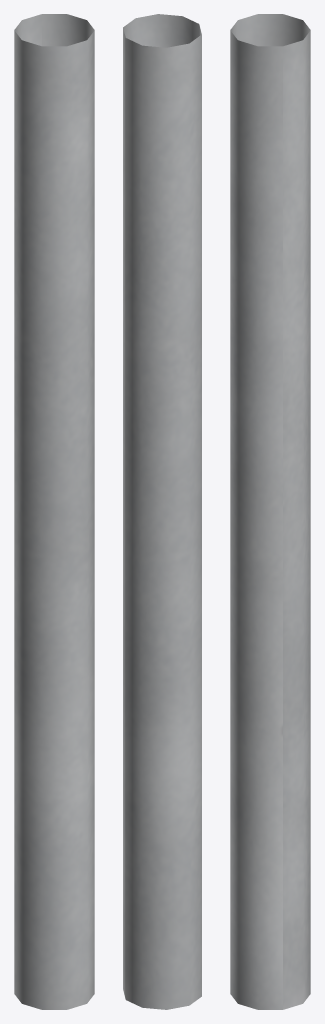
Rendered from pipe_stick.fbx.
The picture shows the model from 3 angles, left to right: view 1: azimuth 90°, elevation 25°; view 2: azimuth 150°, elevation 25°; view 3: azimuth 270°, elevation 25°; orthographic projection.
Parts seen in each view (by area): view 1: pCylinder5; view 2: pCylinder5; view 3: pCylinder5.
Boxes of the visible parts, x1=… form: pCylinder5: x1=14, y1=14, x2=94, y2=1009; pCylinder5: x1=123, y1=14, x2=201, y2=1009; pCylinder5: x1=230, y1=14, x2=310, y2=1009.
Bounding box in the file's own units: 0.867 × 12.03 × 0.9116.
Materials: 1 (1 with a texture image).
